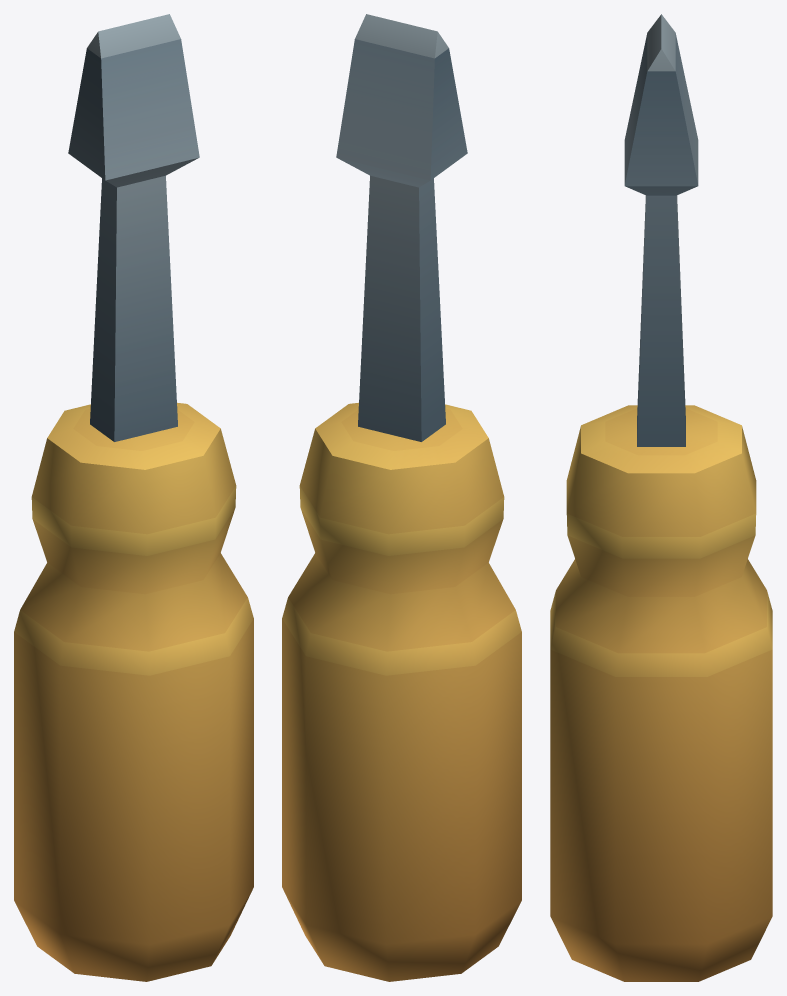
Rendered from screwdriver_A_short_color.glb.
3 views of the same model, side by side, from view 1: azimuth 30°, elevation 25°; view 2: azimuth 150°, elevation 25°; view 3: azimuth 270°, elevation 25° (orthographic).
Visible parts, largest first — view 1: screwdriver_A_short_color; view 2: screwdriver_A_short_color; view 3: screwdriver_A_short_color.
Boxes of the visible parts, <box> form: screwdriver_A_short_color: <box>14,14,253,981</box>; screwdriver_A_short_color: <box>282,14,521,981</box>; screwdriver_A_short_color: <box>550,14,772,981</box>.
Bounding box in the file's own units: 0.1513 × 0.7034 × 0.1513.
1 material, 1 textured.
